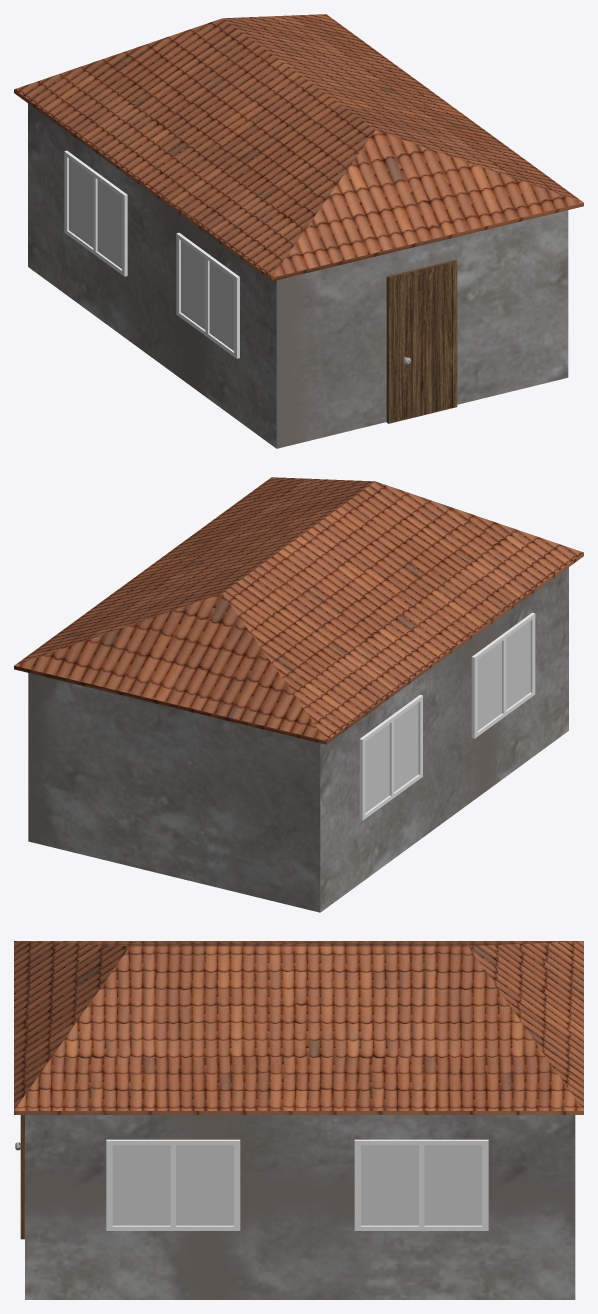
The model's file is HOUSE_08.fbx.
3 renders of one model, top to bottom at view 1: azimuth 30°, elevation 25°; view 2: azimuth 150°, elevation 25°; view 3: azimuth 270°, elevation 25°, orthographic. The views are drawn at different scales.
Visible parts, largest first — view 1: HOUSE_08; view 2: HOUSE_08; view 3: HOUSE_08.
Part boxes in pixels (x1,y1,x2,y2): HOUSE_08: [14, 14, 583, 448]; HOUSE_08: [14, 477, 583, 912]; HOUSE_08: [14, 941, 583, 1299].
Bounding box in the file's own units: 452 × 344 × 645.
